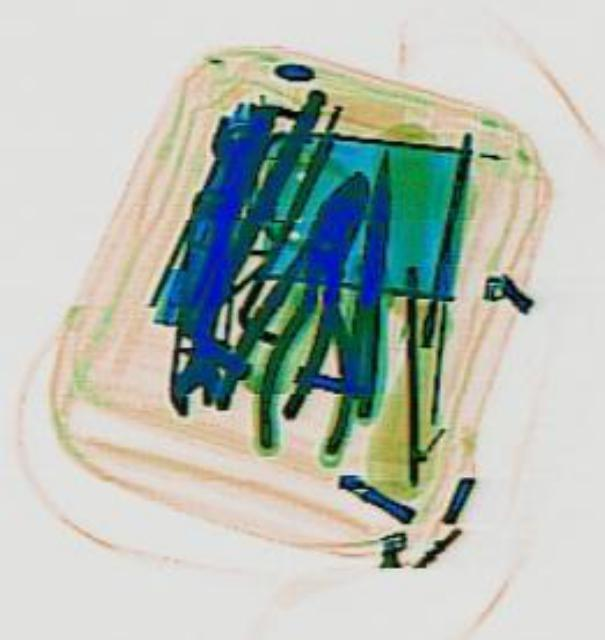Pliers: (204, 153, 399, 437), (247, 214, 376, 456)
Wrench: (160, 235, 240, 417), (201, 110, 261, 196)
